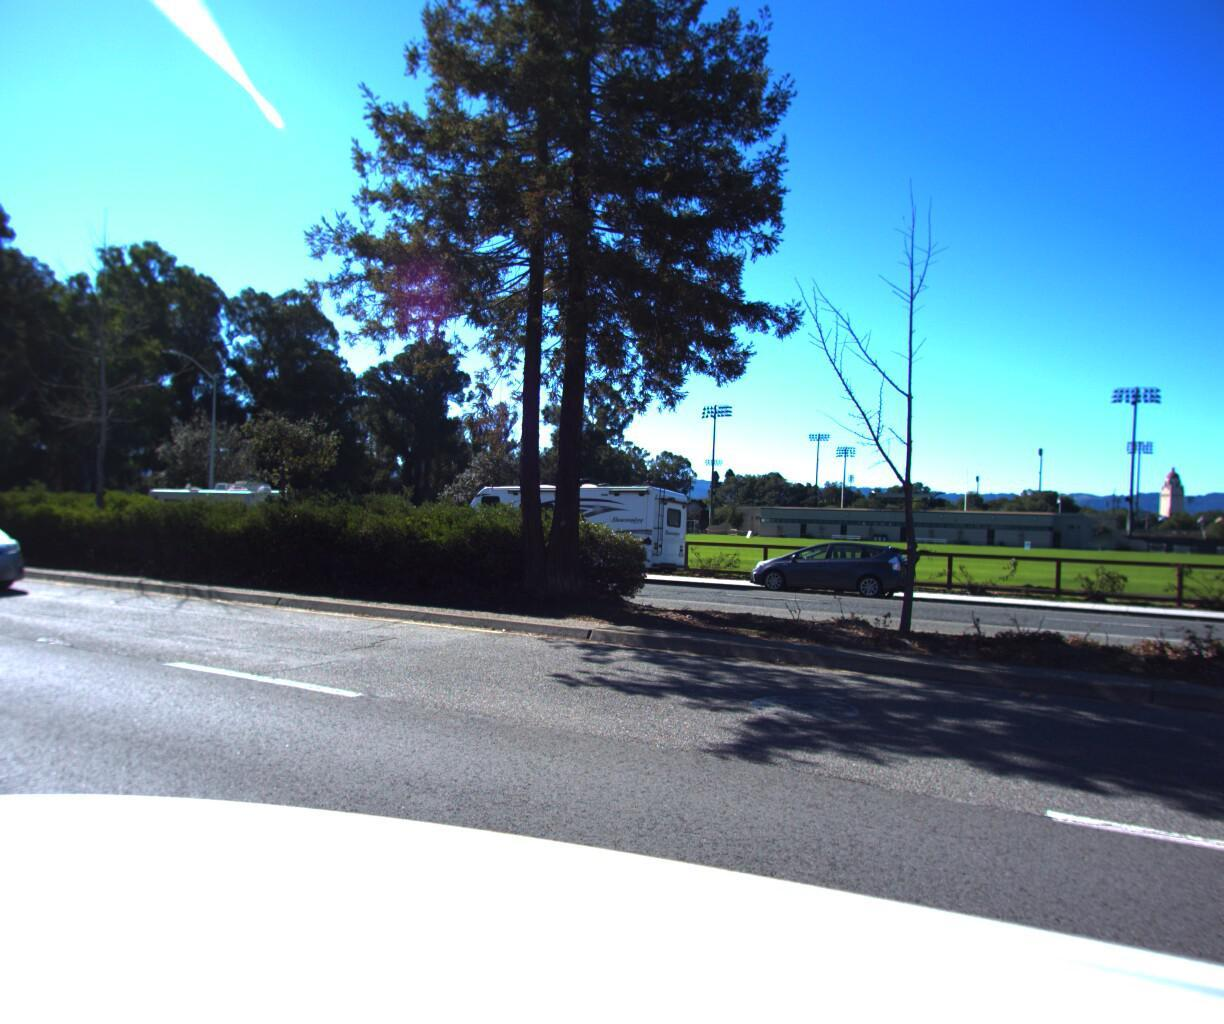car: (749, 533, 921, 595), (0, 474, 44, 599), (1214, 554, 1224, 637)
other_vehicle: (449, 467, 695, 584), (127, 469, 309, 550)
